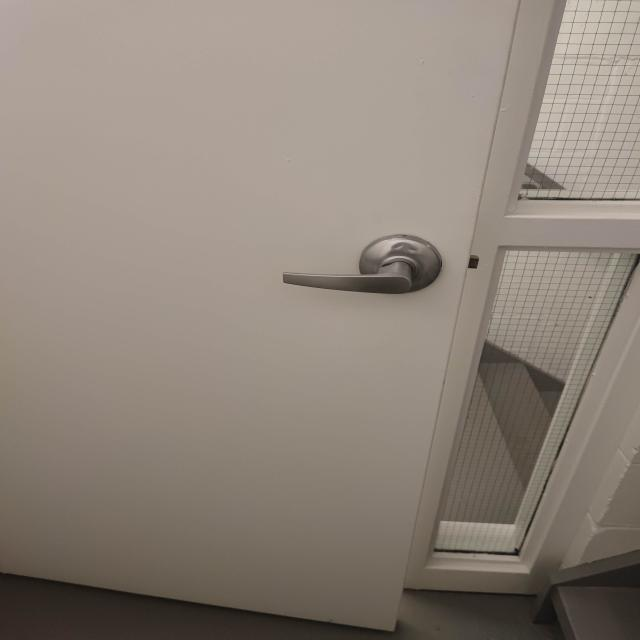door-handle: (283, 235, 442, 294)
